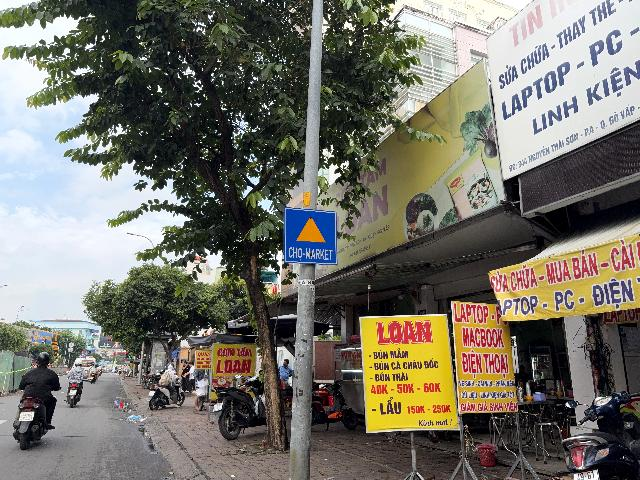khu-vuc-cho-phia-truoc: (284, 207, 338, 266)
